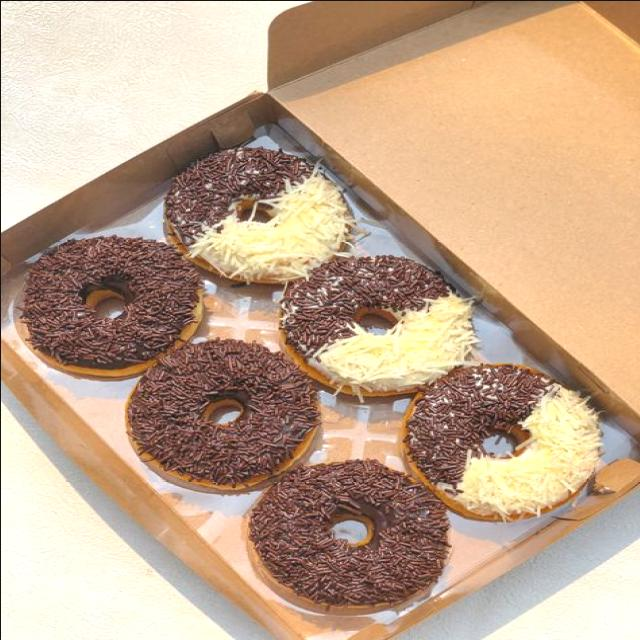donat: (242, 455, 451, 620), (402, 363, 604, 524), (124, 338, 321, 496), (282, 257, 482, 400), (162, 146, 356, 287), (20, 233, 203, 380)
